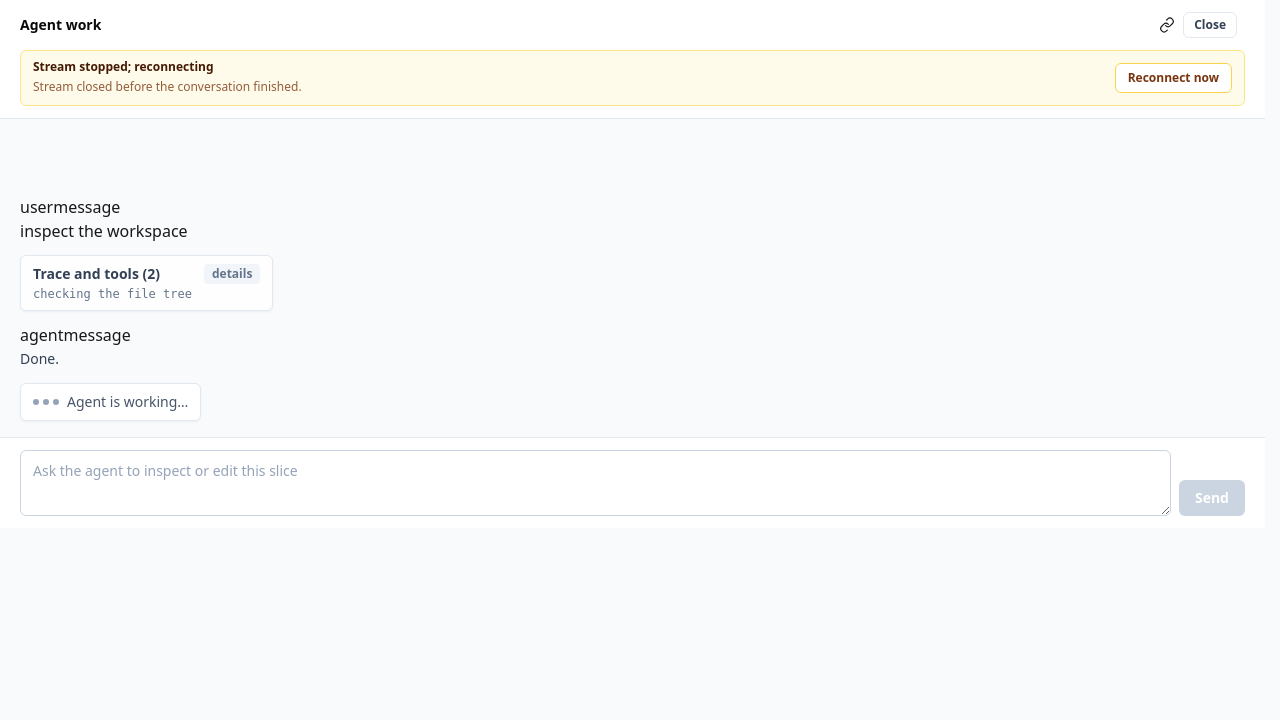
Test: AgentConversation › collapses persisted thinking deltas with nearby trace events
The width and height of the screenshot is (1280, 720).
Click the text "Trace and tools (2)" at (96, 274), box top-left (33, 264), bottom-right (160, 283)
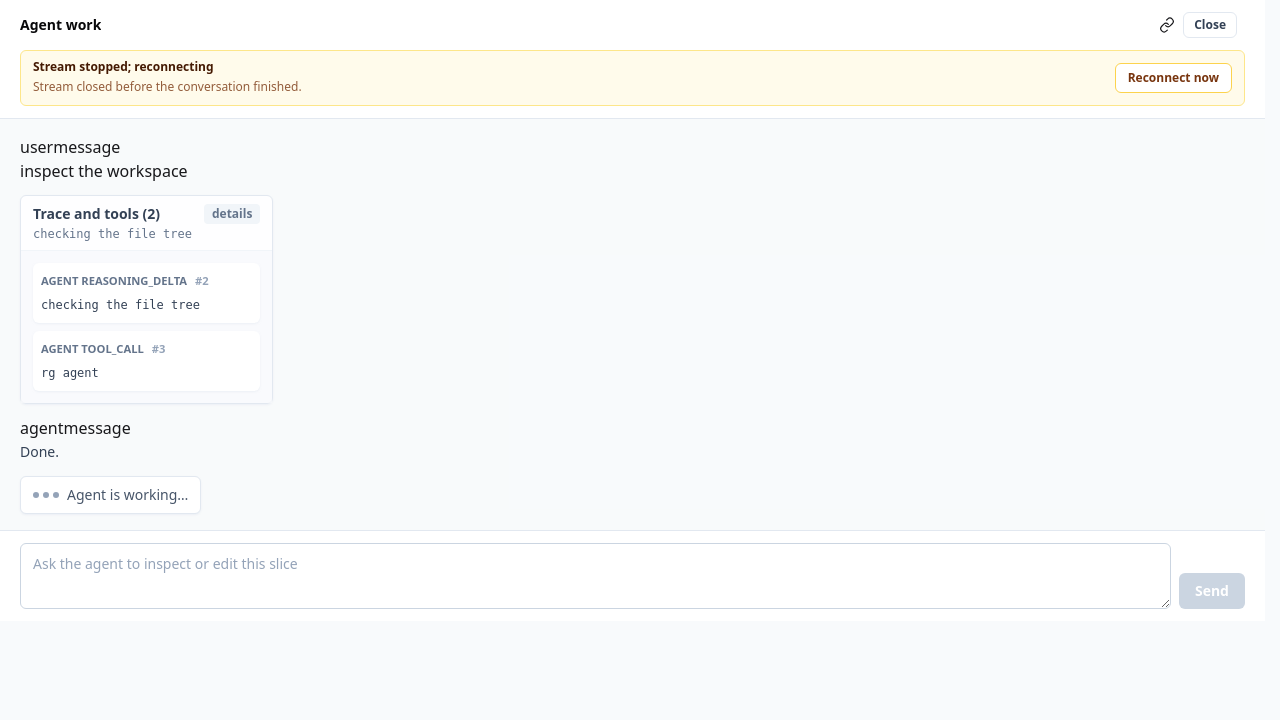
Expected: the text "Trace and tools (2)" shows "checking the file tree", top-left (33, 227), bottom-right (192, 241)
Now the text "Trace and tools (2)" shows "rg agent", box top-left (41, 366), bottom-right (99, 380)
